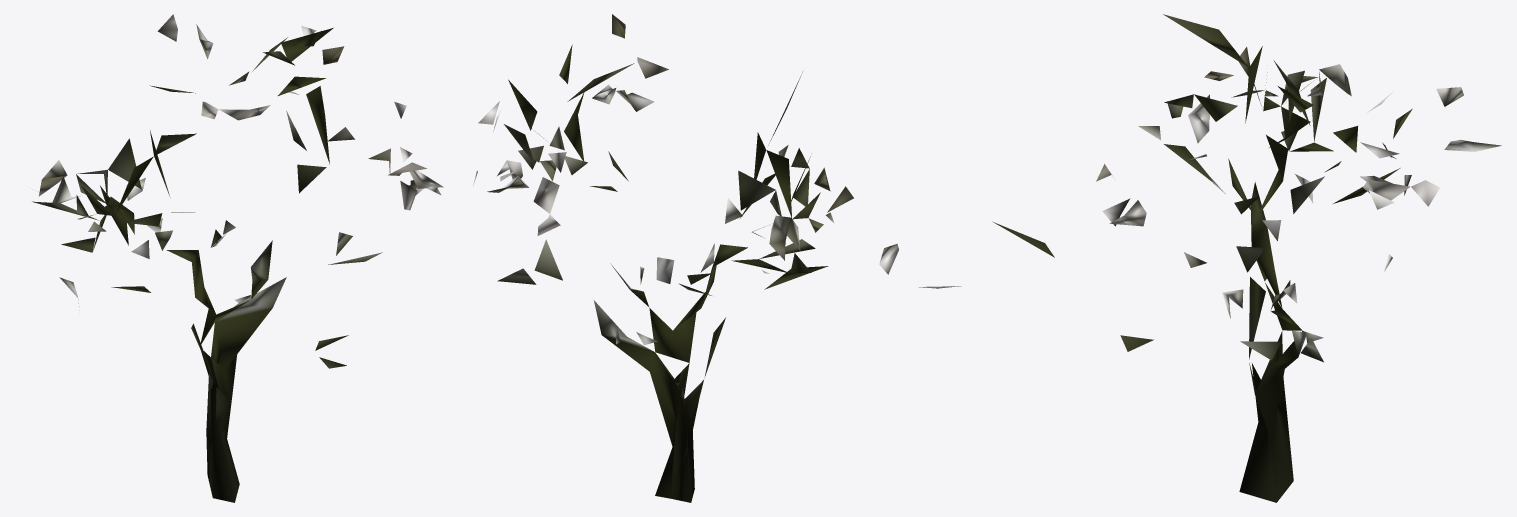
Rendered from peach_l2.glb.
3 renders of one model, left to right at view 1: azimuth 30°, elevation 25°; view 2: azimuth 150°, elevation 25°; view 3: azimuth 270°, elevation 25°, orthographic. The views are drawn at different scales.
Parts seen in each view (by area): view 1: trunk, crown; view 2: trunk, crown; view 3: trunk, crown.
Part boxes in pixels (<box>): trunk: <box>32,28,382,502</box>; crown: <box>37,14,443,310</box>; trunk: <box>497,44,853,502</box>; crown: <box>473,14,961,345</box>; trunk: <box>992,14,1412,502</box>; crown: <box>1096,64,1501,342</box>.
Size of the model in its own units: 5.3 by 5.09 by 4.99.
